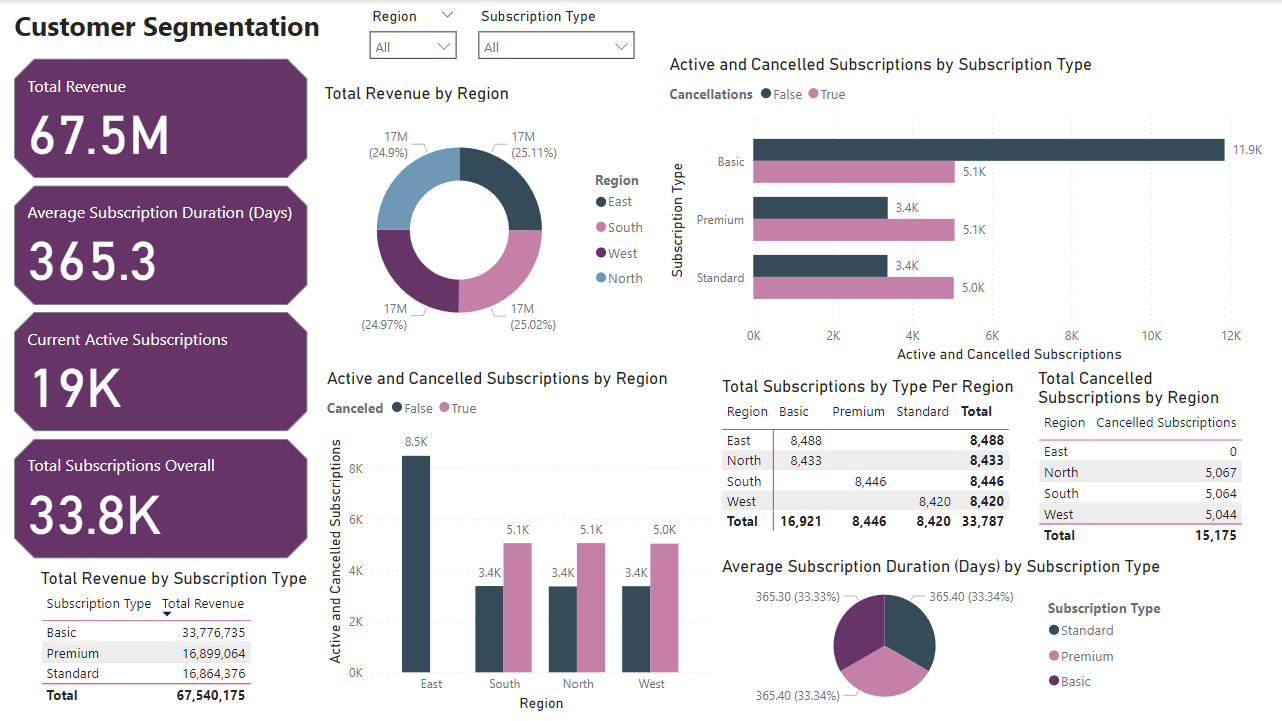

This screenshot's page, from the dashboard's own definition file:
{"tool":"powerbi","page":{"name":"Customer Data","canvas":[1280,720],"ordinal":1},"visuals":[{"type":"textbox","box":[11.2,2.5,325.9,51],"z":0},{"type":"clusteredBarChart","title":"Active and Cancelled Subscriptions by Subscription Type","fields":{"Category":["CustomerData.SubscriptionType"],"Series":["CustomerData.Canceled"],"Y":["CountNonNull(CustomerData.Canceled)"]},"box":[663,53.5,613.3,312.2],"z":1000},{"type":"clusteredColumnChart","title":"Active and Cancelled Subscriptions by Region","fields":{"Category":["CustomerData.Region"],"Y":["CountNonNull(CustomerData.Canceled)"],"Series":["CustomerData.Canceled"]},"box":[322.2,365.7,391.8,347.1],"z":2000},{"type":"cardVisual","fields":{"Data":["Sum(CustomerData.Revenue)","Avg(CustomerData.SubscriptionDurationDays)","Sum(CustomerData.ActiveSubscriptionCount)","CountNonNull(CustomerData.Canceled)"]},"box":[11.2,53.5,302.3,510],"z":3000},{"type":"donutChart","fields":{"Category":["CustomerData.Region"],"Y":["Sum(CustomerData.Revenue)"]},"box":[319.7,82.1,343.3,274.9],"z":4000},{"type":"slicer","fields":{"Values":["CustomerData.Region"]},"box":[359.5,2.5,107,68.4],"z":5000},{"type":"slicer","fields":{"Values":["CustomerData.SubscriptionType"]},"box":[467.7,2.5,175.4,68.4],"z":6000},{"type":"tableEx","title":"Total Revenue by Subscription Type","fields":{"Values":["CustomerData.SubscriptionType","Sum(CustomerData.Revenue)"]},"box":[37.3,564.8,276.2,149.3],"z":7000},{"type":"pivotTable","title":"Total Subscriptions by Type Per Region","fields":{"Values":["CountNonNull(CustomerData.SubscriptionType)"],"Columns":["CustomerData.SubscriptionType"],"Rows":["CustomerData.Region"]},"box":[715.3,374.4,314.7,171.7],"z":8000},{"type":"pieChart","title":"Average Subscription Duration (Days) by Subscription Type","fields":{"Category":["CustomerData.SubscriptionType"],"Y":["Avg(CustomerData.SubscriptionDurationDays)"]},"box":[715.3,553.6,461.5,159.2],"z":9000},{"type":"tableEx","title":"Total Cancelled Subscriptions by Region","fields":{"Values":["CustomerData.Region","Sum(CustomerData.CancelledSubscriptionCount)"]},"box":[1030,365.7,221.4,189.1],"z":10000}]}

Visuals, with their boxes in screenshot pixels (x1, y1, x2, y2), scaled from the page's 1280x720 canvas onto the 1282x721 screenshot:
textbox: 11 3 338 54
"Active and Cancelled Subscriptions by Subscription Type" clusteredBarChart: 664 54 1278 366
"Active and Cancelled Subscriptions by Region" clusteredColumnChart: 323 366 715 714
cardVisual - Sum(CustomerData.Revenue) x Avg(CustomerData.SubscriptionDurationDays): 11 54 314 564
donutChart - CustomerData.Region x Sum(CustomerData.Revenue): 320 82 664 357
slicer - CustomerData.Region: 360 3 467 71
slicer - CustomerData.SubscriptionType: 468 3 644 71
"Total Revenue by Subscription Type" tableEx: 37 566 314 715
"Total Subscriptions by Type Per Region" pivotTable: 716 375 1032 547
"Average Subscription Duration (Days) by Subscription Type" pieChart: 716 554 1179 714
"Total Cancelled Subscriptions by Region" tableEx: 1032 366 1253 556
